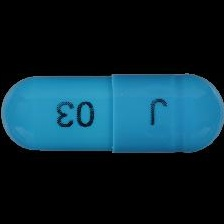65862-587: (0, 0, 224, 224)
